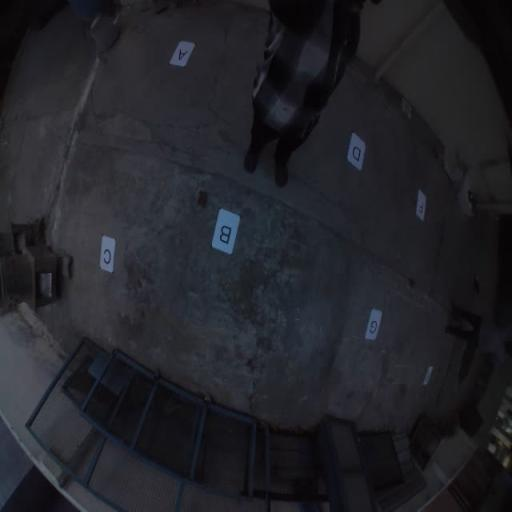A: (169, 41, 195, 67)
B: (211, 208, 241, 255)
C: (99, 236, 116, 272)
D: (346, 132, 366, 171)
F: (414, 190, 426, 222)
G: (364, 308, 382, 342)
